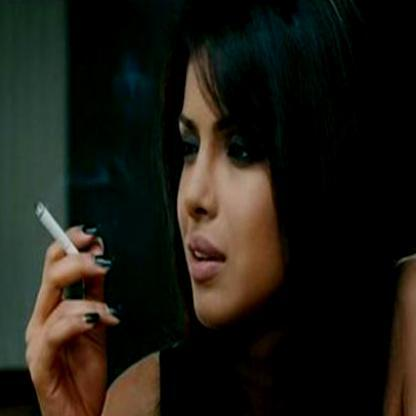cigarette: (35, 200, 80, 260)
person: (157, 3, 415, 415)
